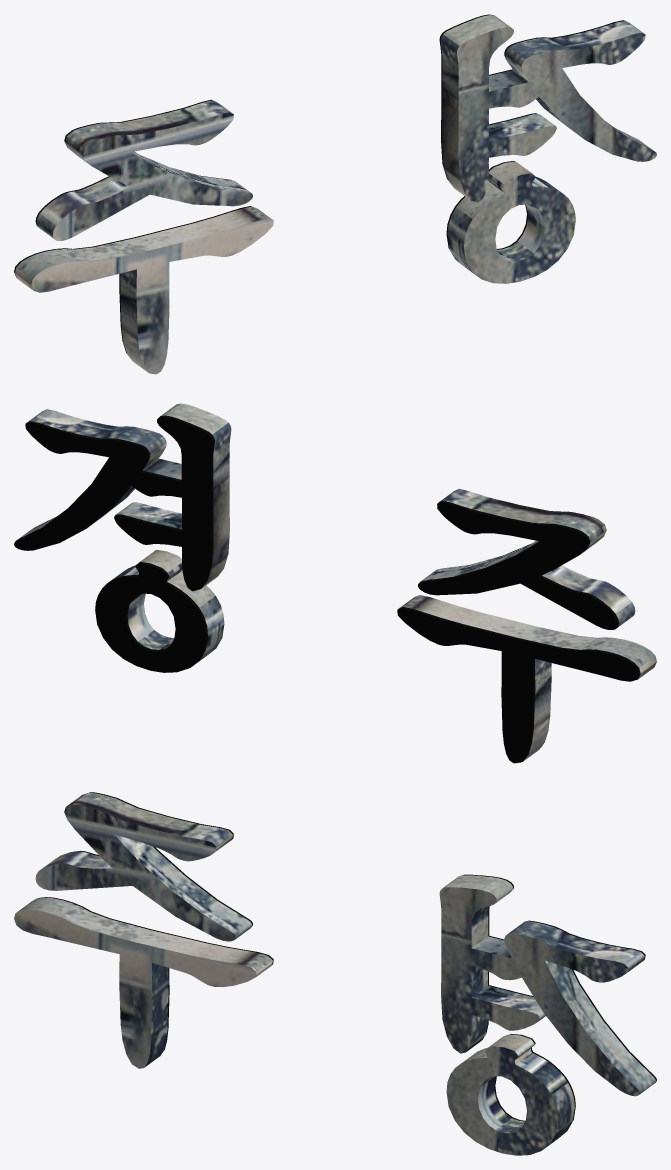
File: Text_KyungJu.FBX
The picture shows the model from 3 angles, top to bottom: view 1: azimuth 30°, elevation 25°; view 2: azimuth 150°, elevation 25°; view 3: azimuth 330°, elevation 25°; orthographic projection.
Visible parts, largest first — view 1: Text_KyungJu; view 2: Text_KyungJu; view 3: Text_KyungJu.
Boxes of the visible parts, x1,y1,x2,y2 form: Text_KyungJu: (14,14,656,374); Text_KyungJu: (14,403,656,763); Text_KyungJu: (14,792,656,1155).
Bounding box in the file's own units: 0.1786 × 0.0716 × 0.00884.
1 material, 1 textured.
